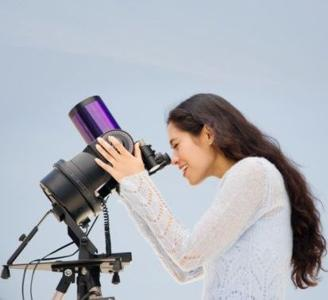person: (95, 92, 322, 300)
